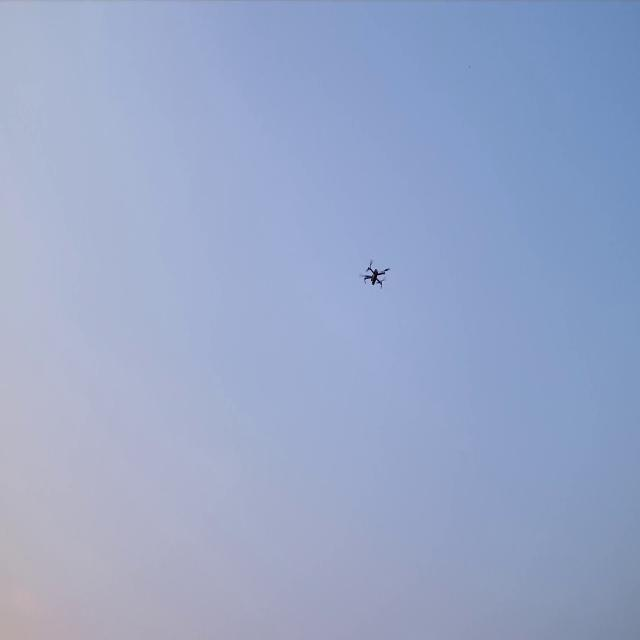UAV: (359, 258, 391, 289)
